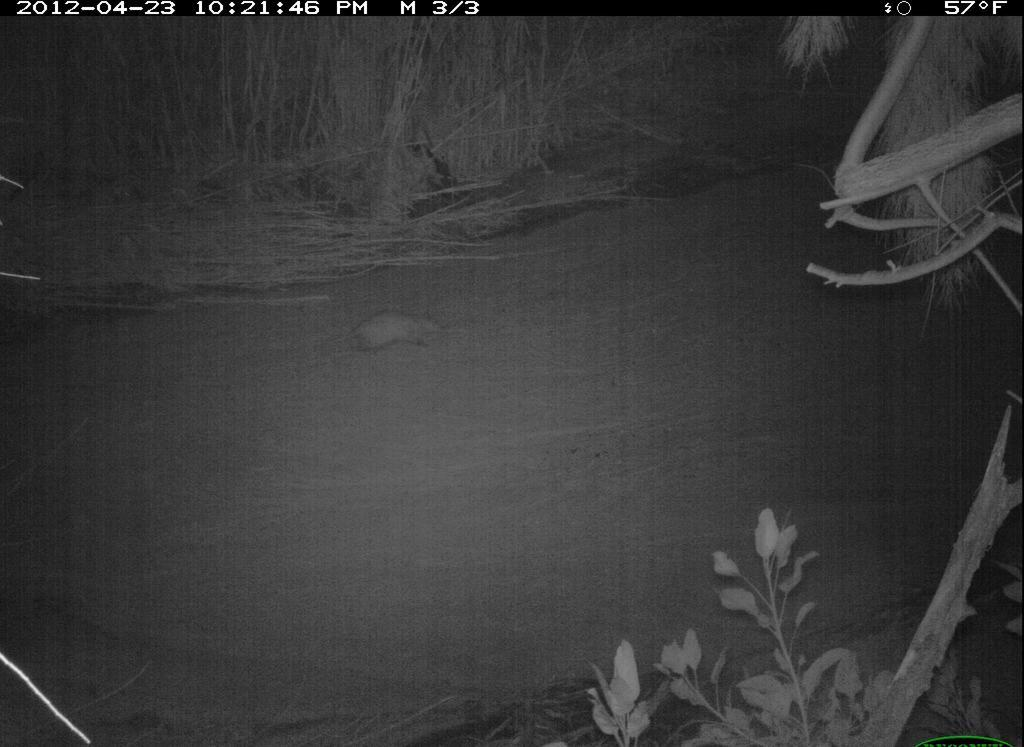opossum: (337, 295, 449, 370)
